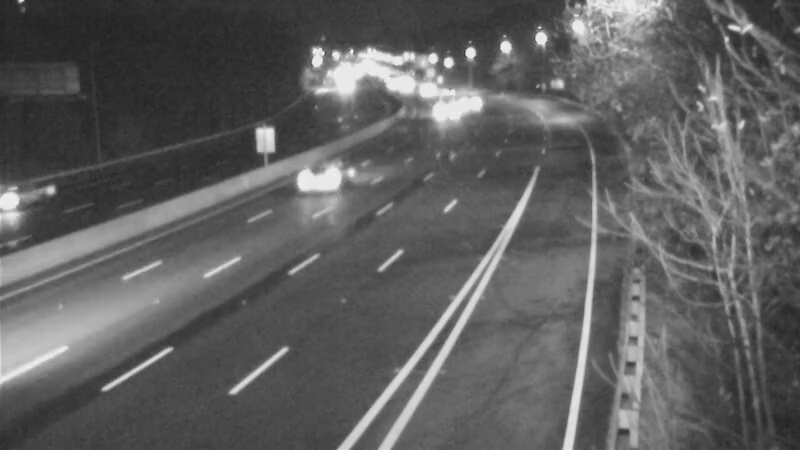vehicle: (287, 126, 367, 206), (1, 158, 77, 238), (442, 74, 492, 124), (418, 86, 468, 136)
